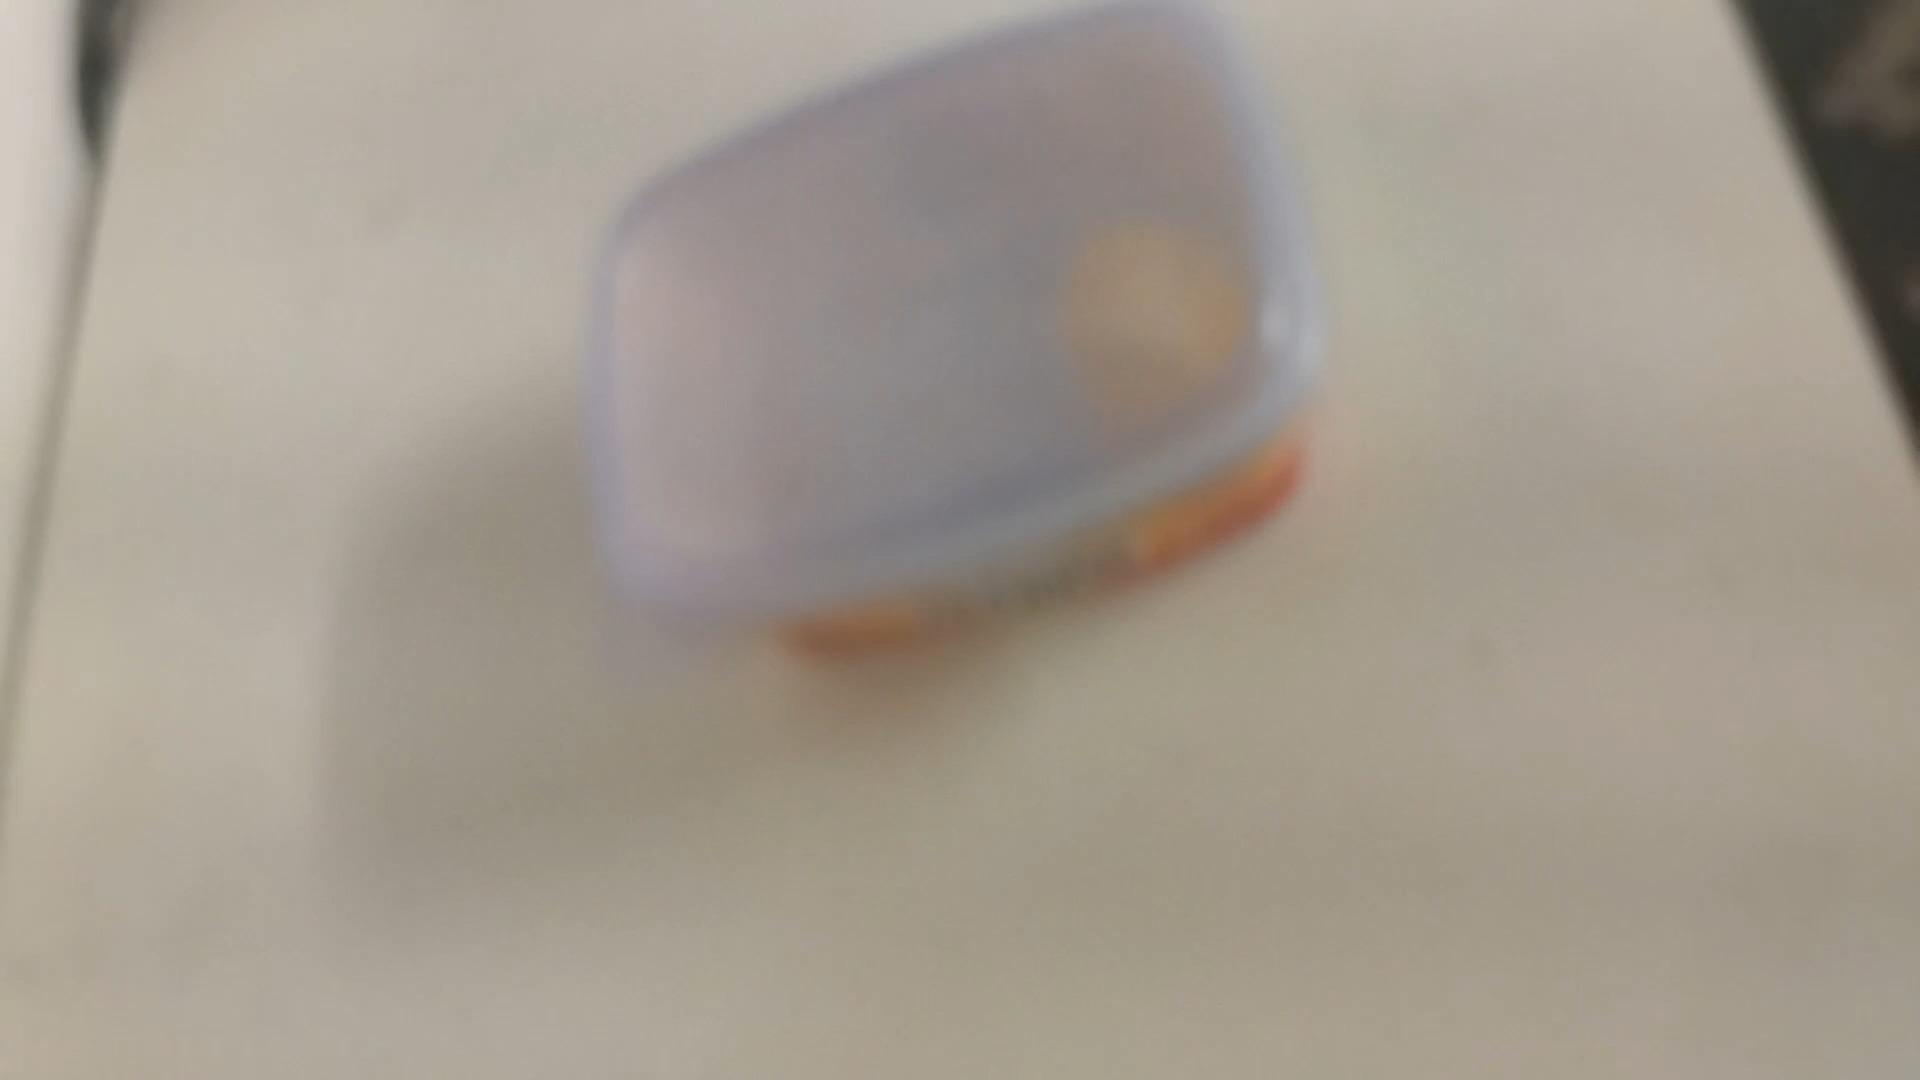butter: (587, 3, 1325, 658)
